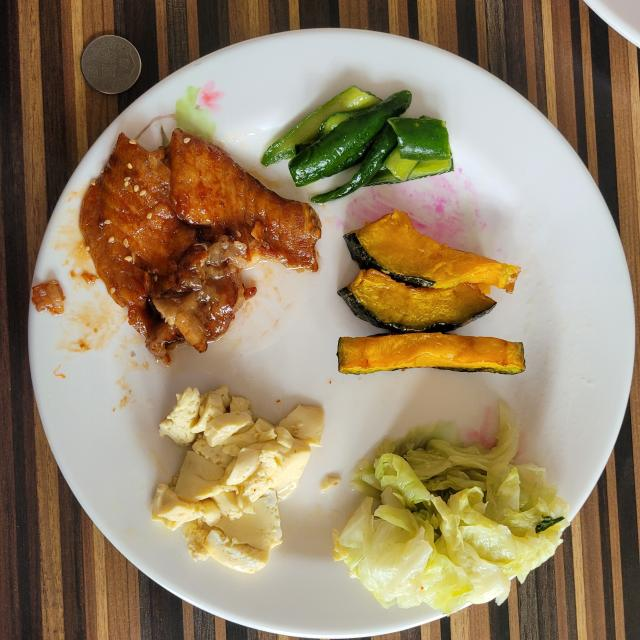Kabayaki sea bream fillet: (80, 129, 321, 362)
cabbage: (334, 404, 569, 615)
coin: (81, 35, 141, 94)
cucumber: (261, 86, 452, 202)
pumpkin: (338, 210, 525, 374)
